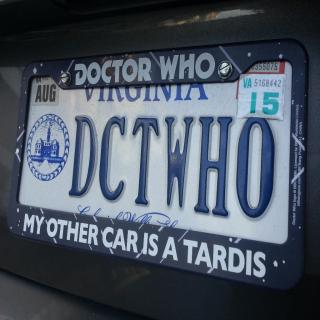license: (9, 41, 310, 294)
